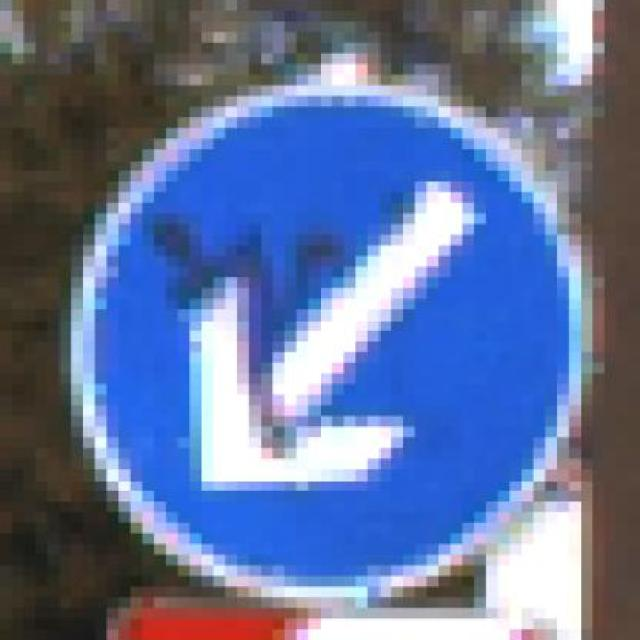Keep-Left: (58, 64, 604, 608)
